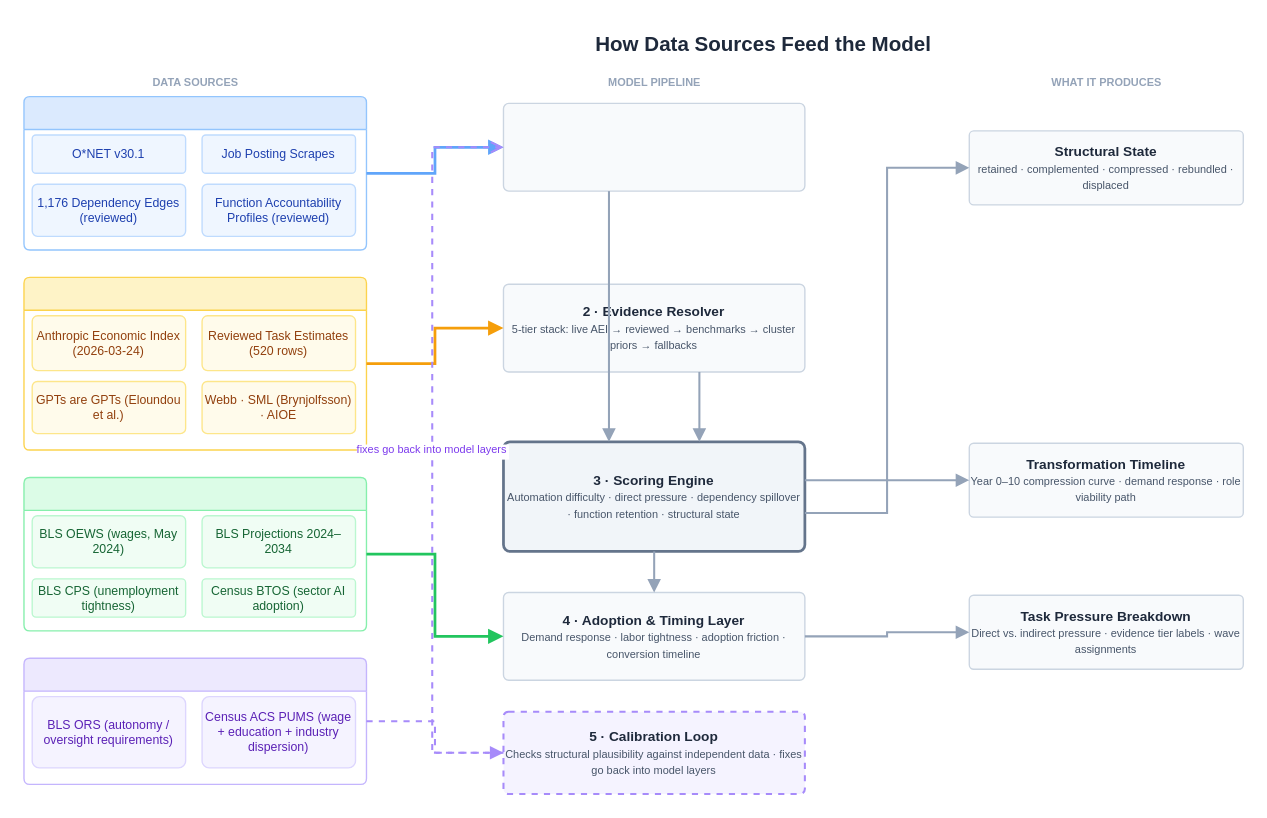
This 1267x818 diagram has some shape labels left out. The shapes that lost their labels are listed below. From the top down, each one's box as (x1, y1, x2, y2) in pixels, then its label:
(502, 102, 805, 191): 1 · Role Builder Tasks · 12 clusters · dependency graph · 124 function anchors
(23, 95, 366, 250): Role Construction
(23, 276, 366, 450): Task Evidence
(23, 476, 366, 631): Labor Context
(23, 657, 366, 784): External Calibration (stays outside the score)
